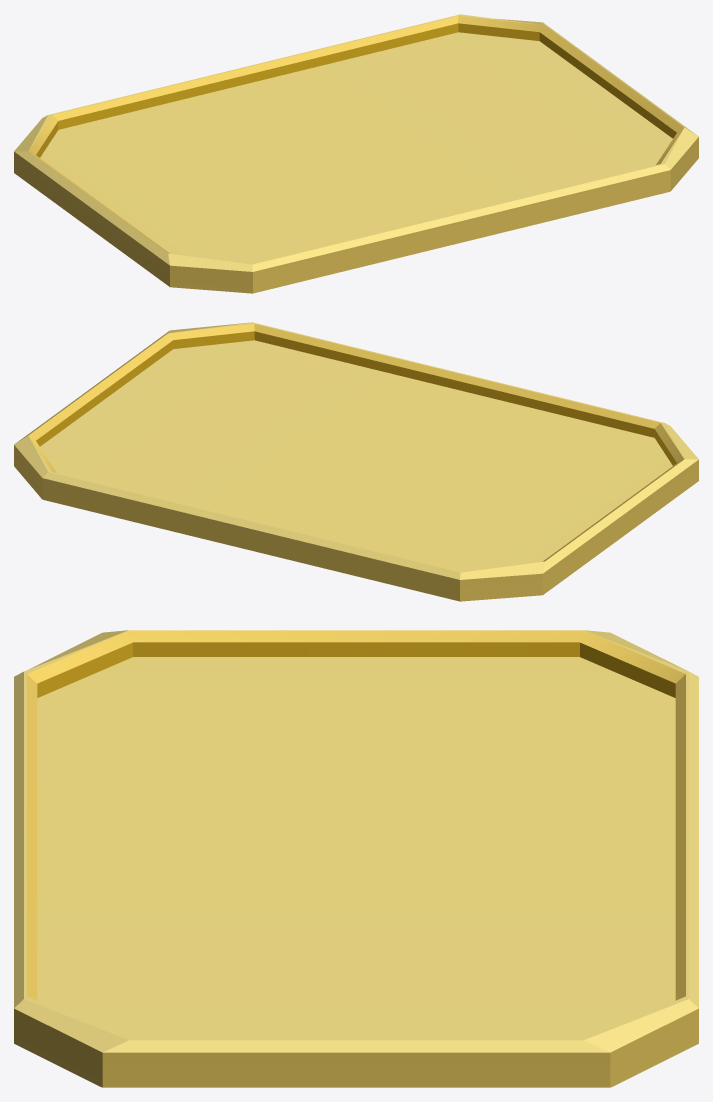
The model's file is Tray_Mesh.fbx.
3 renders of one model, top to bottom at view 1: azimuth 30°, elevation 25°; view 2: azimuth 150°, elevation 25°; view 3: azimuth 270°, elevation 25°, orthographic. The views are drawn at different scales.
Parts seen in each view (by area): view 1: Tray_Mesh; view 2: Tray_Mesh; view 3: Tray_Mesh.
Part boxes in pixels (<box>): Tray_Mesh: <box>14,14,698,293</box>; Tray_Mesh: <box>14,322,698,601</box>; Tray_Mesh: <box>14,630,698,1087</box>.
Bounding box in the file's own units: 81.04 × 3.83 × 55.85.
Materials: 1 (1 with a texture image).
